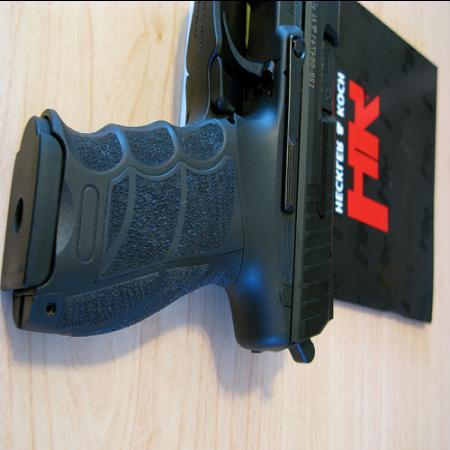Pistol: (13, 1, 342, 365)
